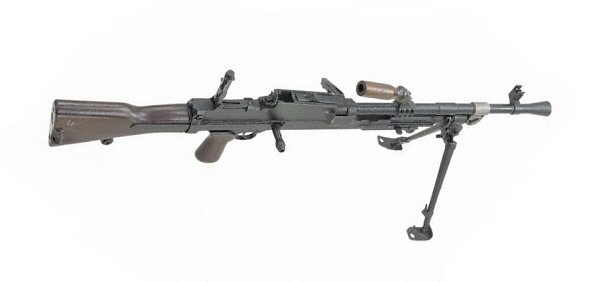rifle: (29, 64, 561, 259)
